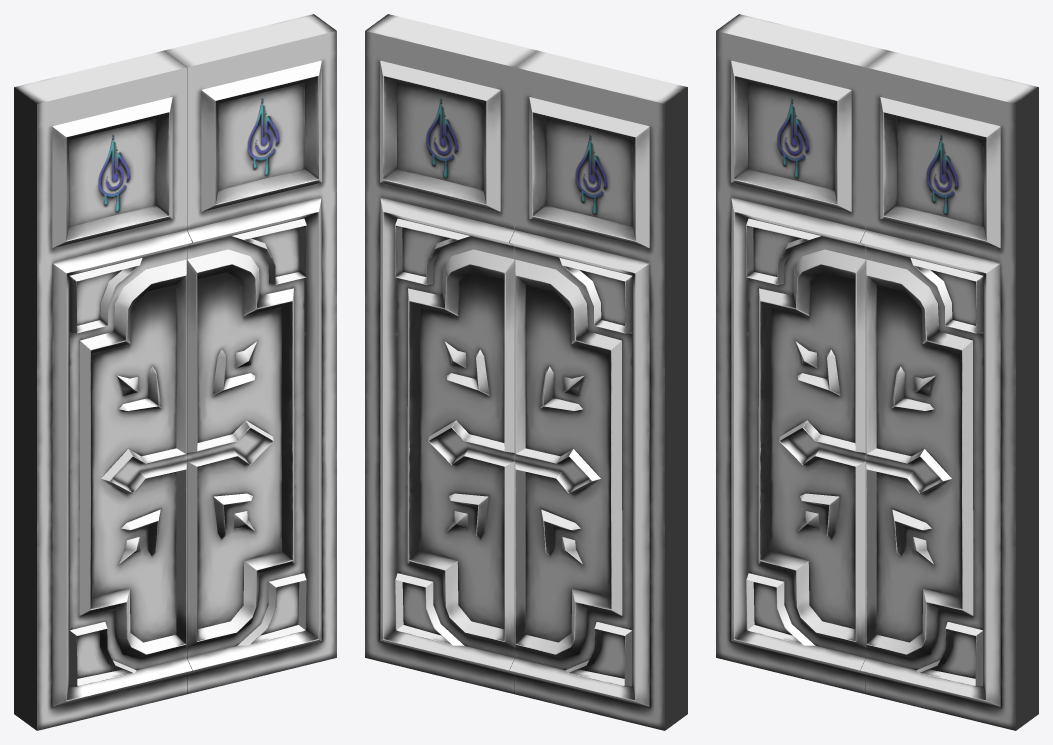
Rendered from sorrowdoor.fbx.
3 renders of one model, left to right at view 1: azimuth 30°, elevation 25°; view 2: azimuth 150°, elevation 25°; view 3: azimuth 330°, elevation 25°, orthographic.
Parts seen in each view (by area): view 1: door1, door2; view 2: door1, door2; view 3: door2, door1.
Boxes of the visible parts, left/top/right/bottom form: door1: left=14, top=50, right=192, bottom=730; door2: left=164, top=14, right=336, bottom=694; door1: left=509, top=50, right=687, bottom=730; door2: left=365, top=14, right=537, bottom=694; door2: left=860, top=50, right=1038, bottom=730; door1: left=716, top=14, right=888, bottom=694.
Size of the model in its own units: 150 by 300 by 29.99.
